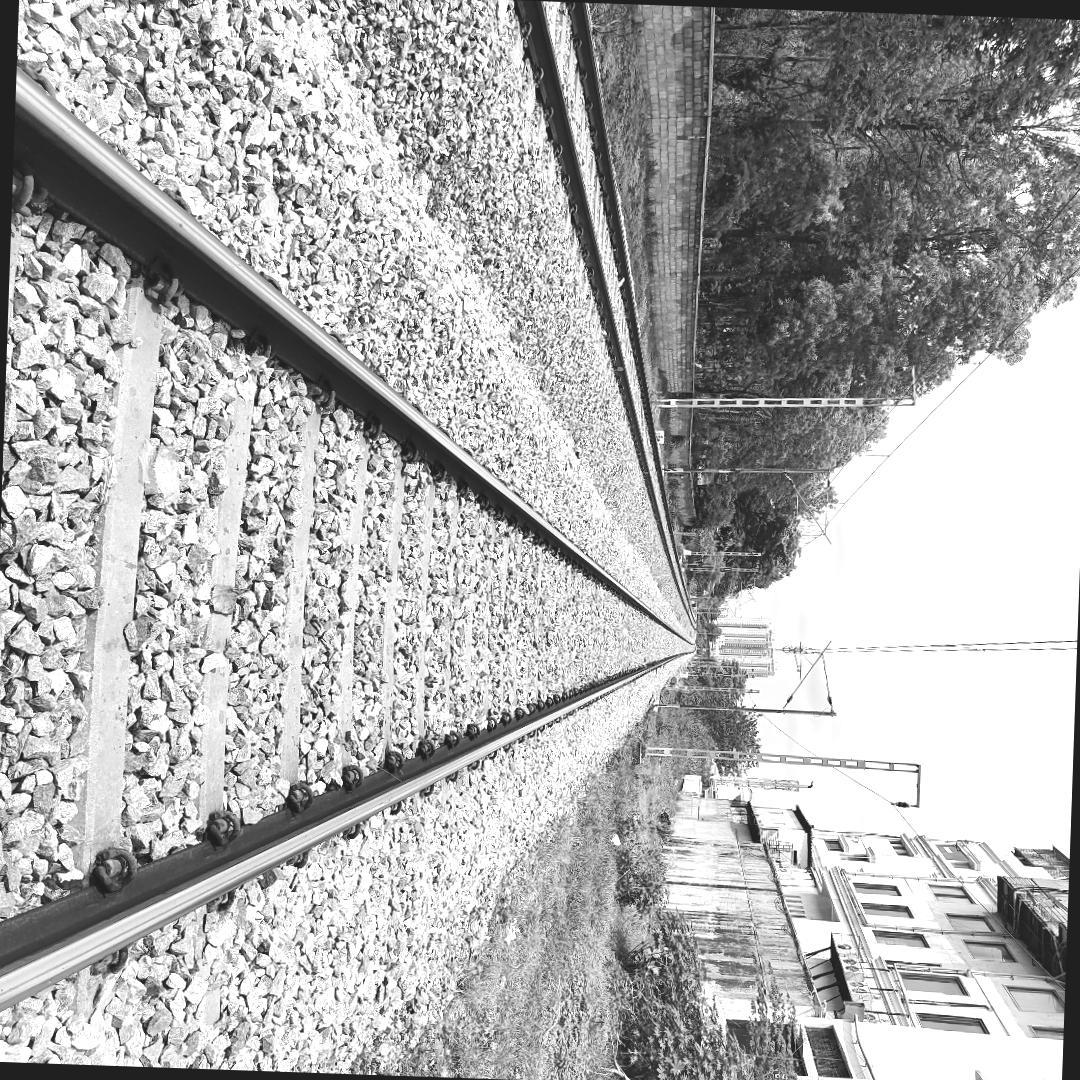track: (0, 30, 699, 1048)
